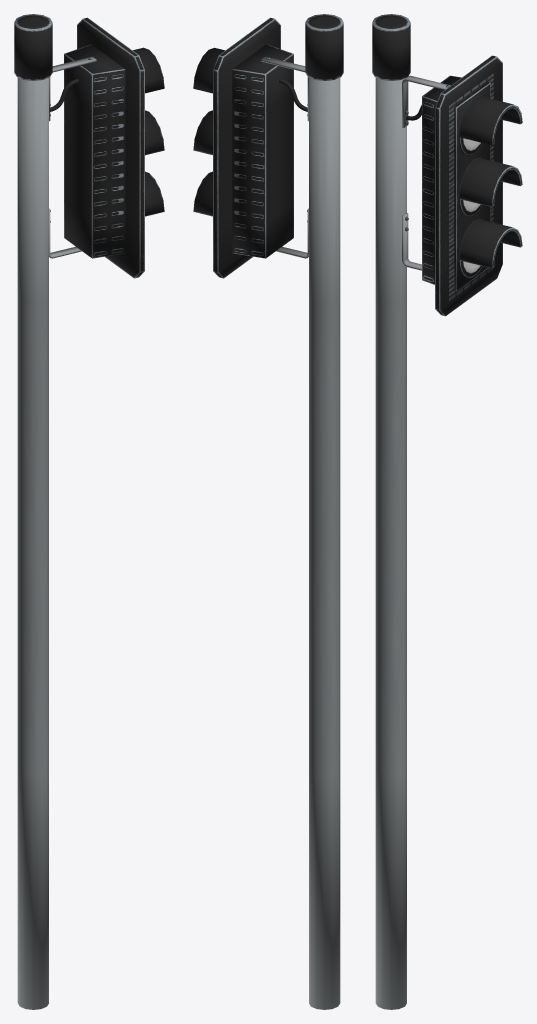
Rendered from SM_TrafficLight.fbx.
3 renders of one model, left to right at view 1: azimuth 30°, elevation 25°; view 2: azimuth 150°, elevation 25°; view 3: azimuth 330°, elevation 25°, orthographic.
Parts seen in each view (by area): view 1: Object_2; view 2: Object_2; view 3: Object_2.
Boxes of the visible parts, <box> form: Object_2: <box>14,14,164,1009</box>; Object_2: <box>193,14,343,1009</box>; Object_2: <box>372,14,522,1009</box>.
Size of the model in its own units: 84.41 by 597 by 69.27.
Materials: 4 (1 with a texture image).
